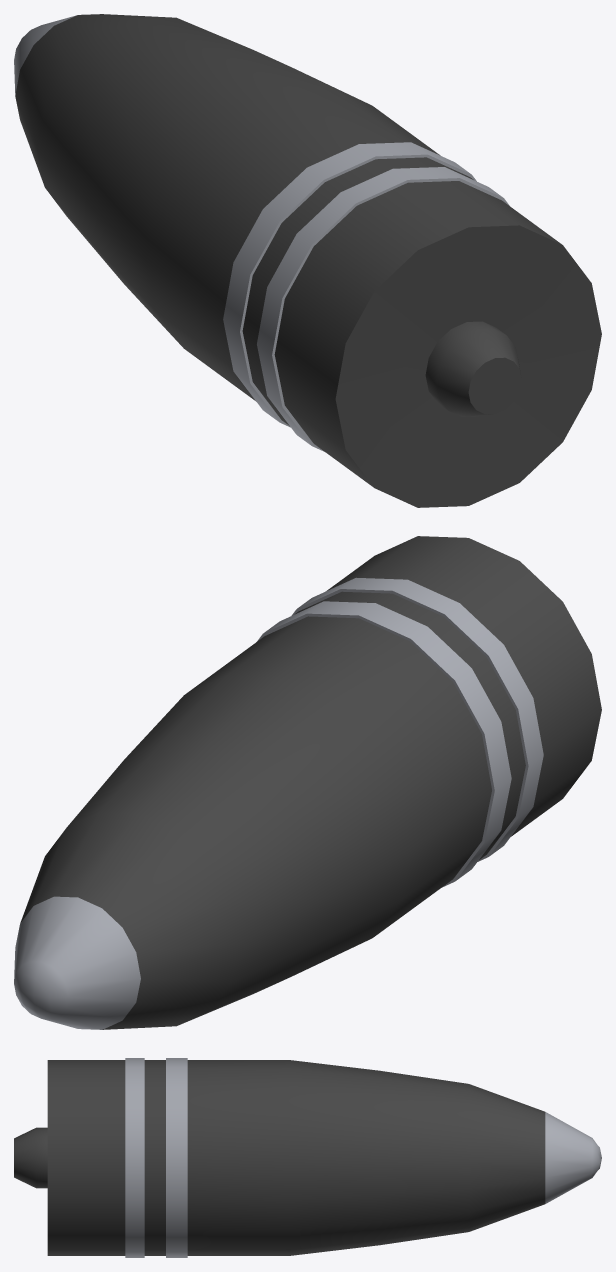
Rendered from ap_bullet_88.fbx.
3 renders of one model, top to bottom at view 1: azimuth 30°, elevation 25°; view 2: azimuth 150°, elevation 25°; view 3: azimuth 270°, elevation 25°, orthographic. The views are drawn at different scales.
Visible parts, largest first — view 1: Bullet; view 2: Bullet; view 3: Bullet.
Boxes of the visible parts, box(x1,y1,x2,y2) form: Bullet: box(14, 14, 601, 507); Bullet: box(14, 536, 601, 1029); Bullet: box(14, 1058, 601, 1257).
Size of the model in its own units: 81.6 by 81.6 by 240.
